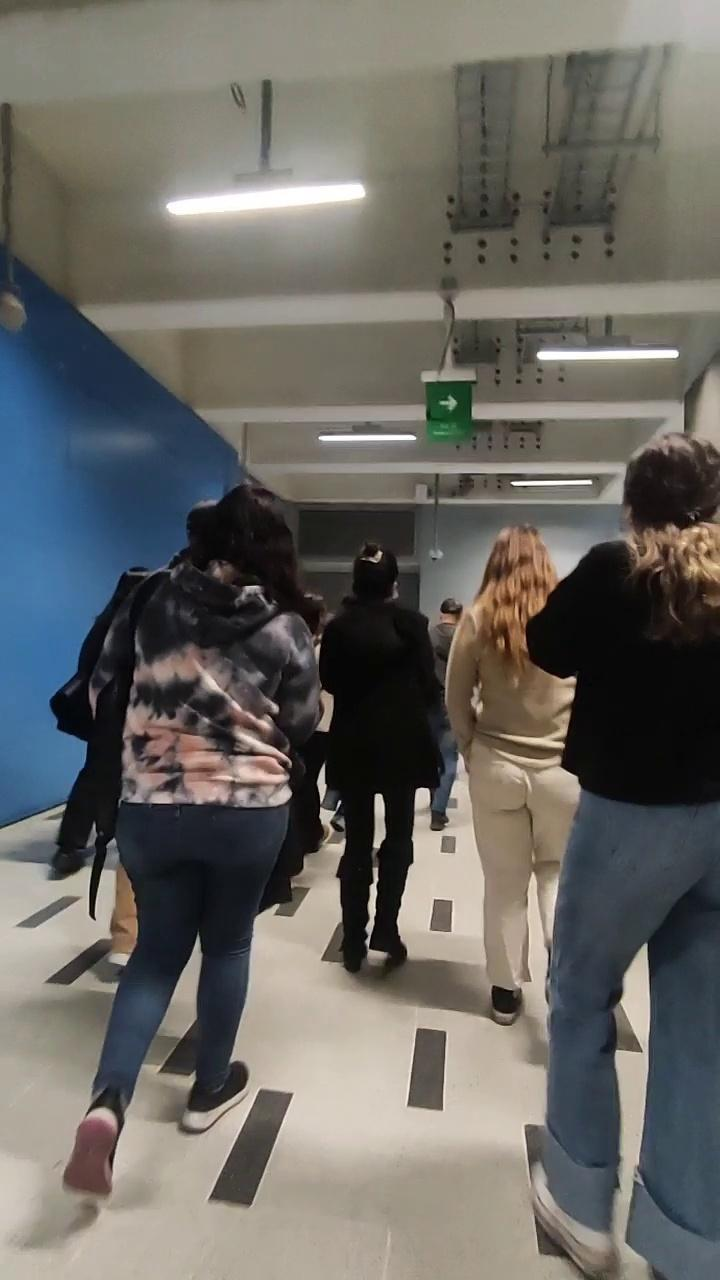left arrow: (427, 382, 470, 438)
